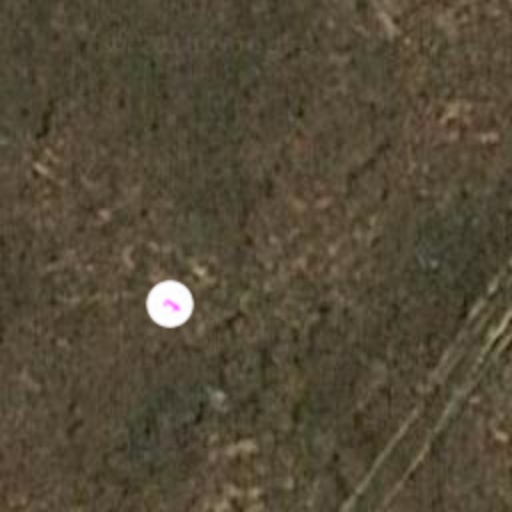circle: (136, 270, 204, 338)
